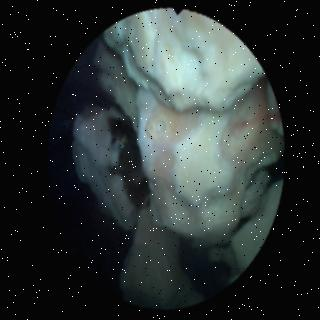stone: (69, 11, 280, 297)
